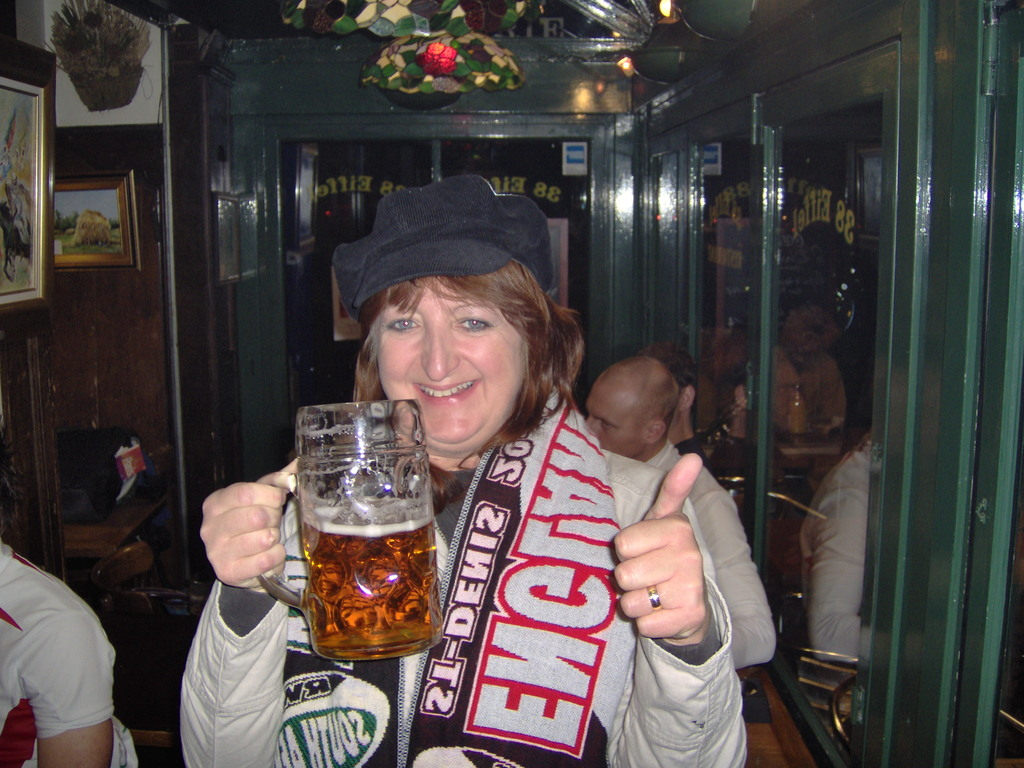Beer: (252, 399, 455, 666)
